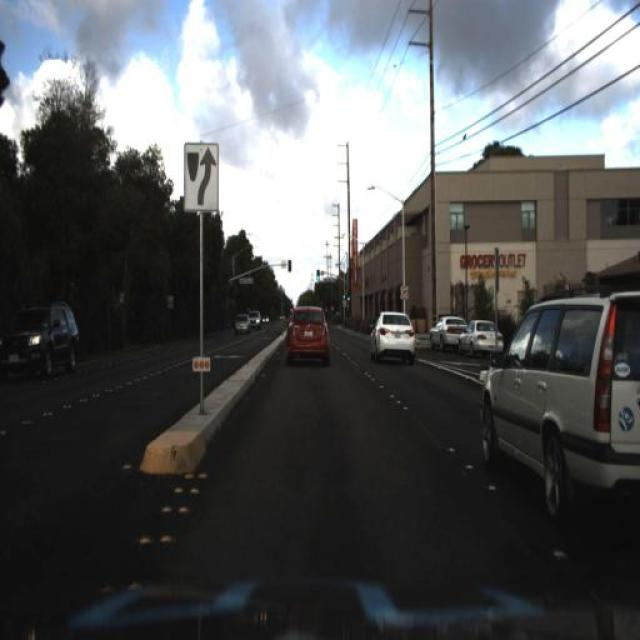car: (480, 274, 640, 584), (0, 302, 81, 382), (278, 289, 344, 365), (362, 296, 418, 370), (459, 318, 498, 358), (432, 318, 461, 350), (232, 310, 253, 334), (234, 312, 250, 337), (250, 304, 262, 334)
